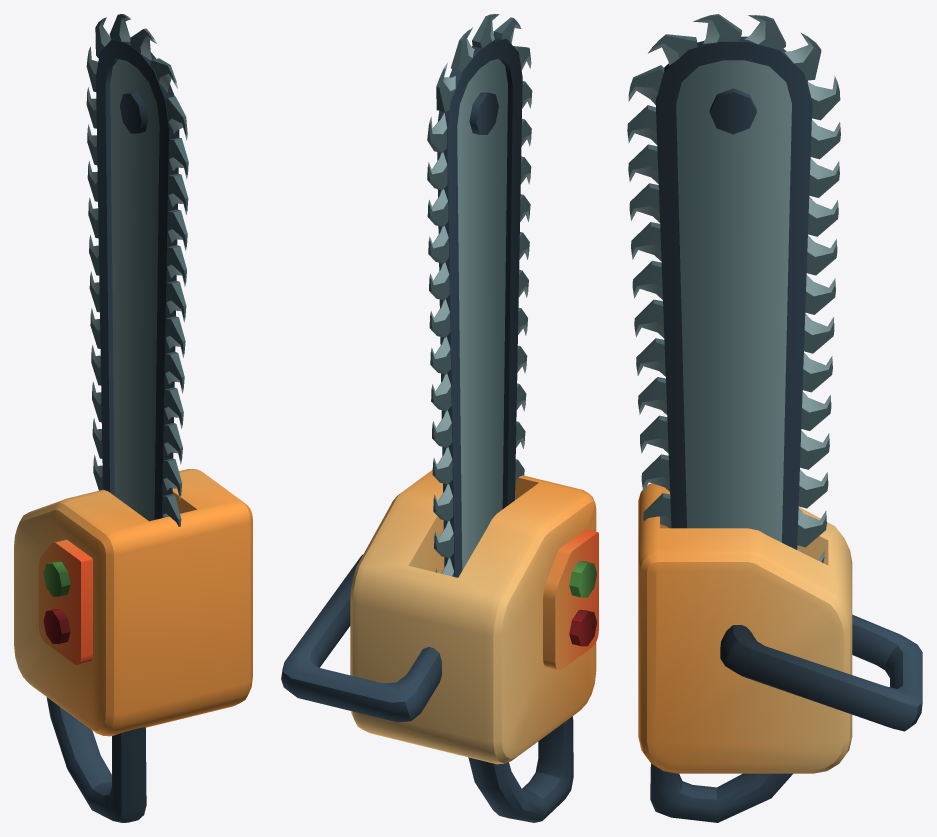
Rendered from Chainsaw.fbx.
3 views of the same model, side by side, from view 1: azimuth 30°, elevation 25°; view 2: azimuth 150°, elevation 25°; view 3: azimuth 270°, elevation 25° (orthographic). The views are drawn at different scales.
Visible parts, largest first — view 1: chainsaw_torso, chainsaw_head, chainsaw_saw; view 2: chainsaw_torso, chainsaw_head, chainsaw_saw; view 3: chainsaw_head, chainsaw_torso, chainsaw_saw.
Boxes of the visible parts, x1,y1,x2,y2 form: chainsaw_torso: (14, 469, 252, 822); chainsaw_head: (96, 39, 179, 521); chainsaw_saw: (86, 14, 188, 526); chainsaw_torso: (281, 470, 598, 822); chainsaw_head: (437, 38, 522, 577); chainsaw_saw: (427, 14, 532, 576); chainsaw_head: (655, 36, 812, 549); chainsaw_torso: (638, 483, 922, 822); chainsaw_saw: (627, 14, 840, 562).
Bounding box in the file's own units: 3.02 × 10.77 × 3.48.
